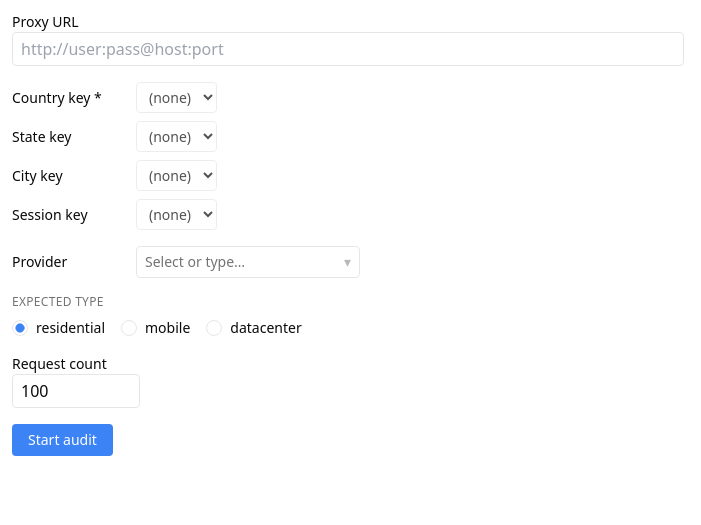
Test: AuditSetupForm — token picker › rejects URL with no username
In the field labelled "Proxy URL": (348, 49) x1=12 y1=32 x2=684 y2=66, type "http://host:1"
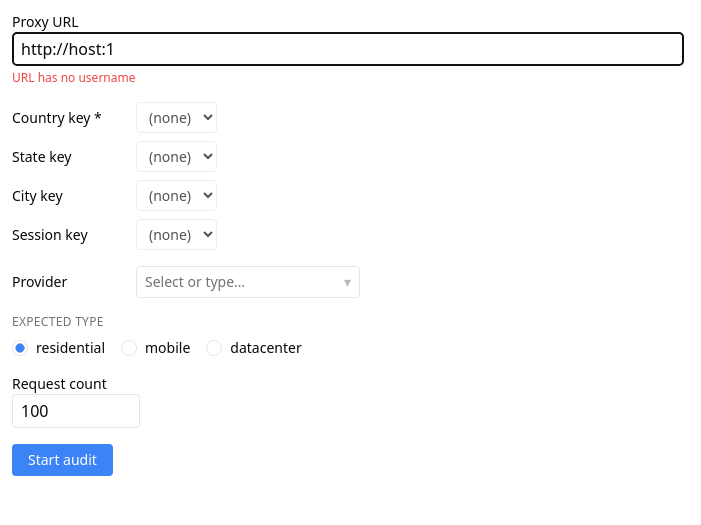
Click the button "Start audit": (62, 460) x1=12 y1=444 x2=113 y2=476
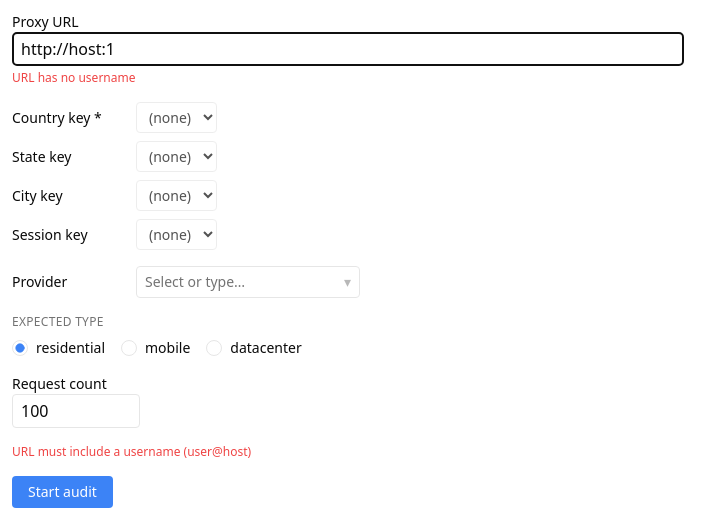
Expected: the text "URL must include a username (user@host)" is shown, x1=12 y1=443 x2=251 y2=460
